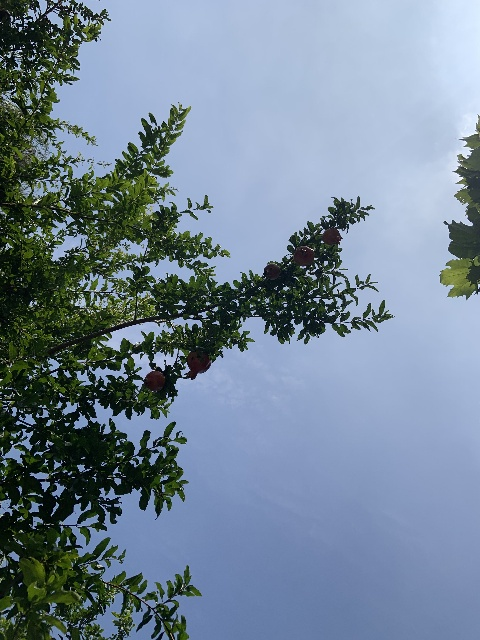ripe: (183, 350, 211, 380), (143, 370, 165, 391), (293, 246, 314, 266), (322, 228, 342, 245), (262, 262, 280, 280)
